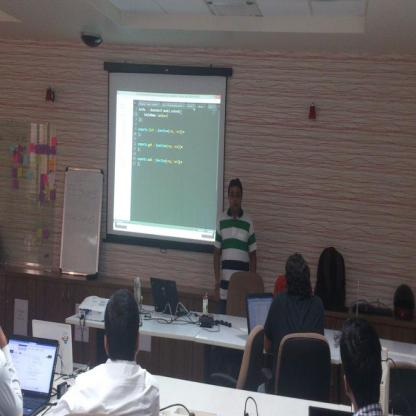board: (5, 318, 64, 414), (32, 318, 86, 378), (150, 278, 190, 319), (245, 293, 273, 337)
